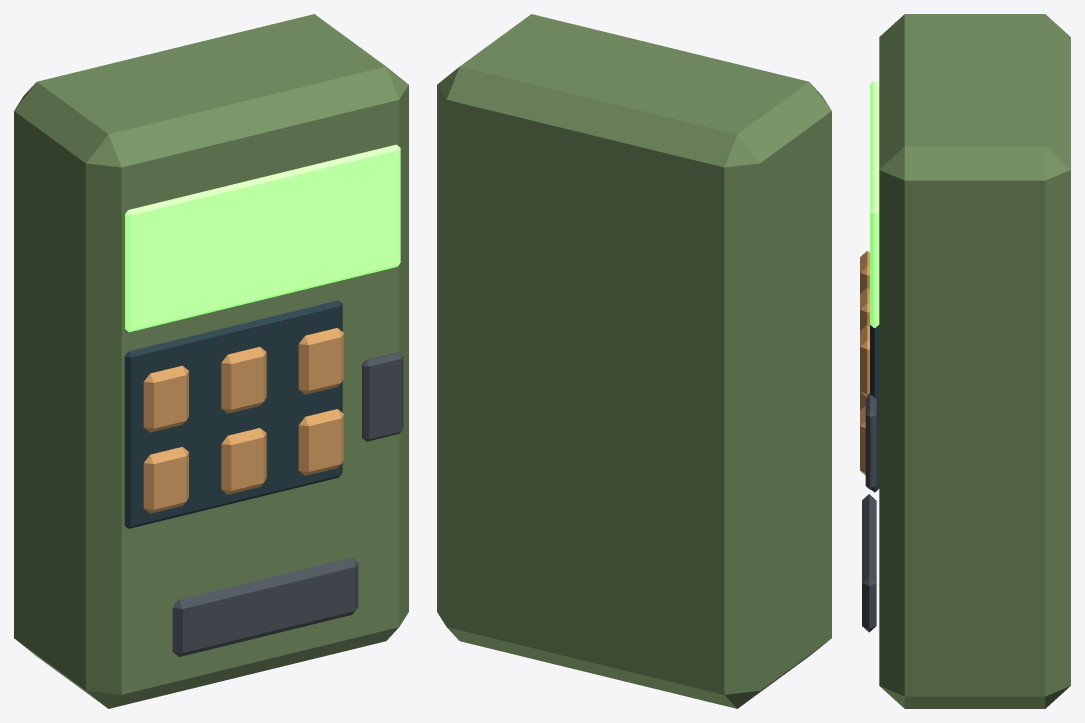
The model's file is la-vendingmachine.glb.
3 renders of one model, left to right at view 1: azimuth 30°, elevation 25°; view 2: azimuth 150°, elevation 25°; view 3: azimuth 270°, elevation 25°, orthographic. The views are drawn at different scales.
Parts seen in each view (by area): view 1: Vending_Body, AD_SURFACE_VENDING, Vending_Display, Vending_Chute, Vending_Keypad, Vending_Can.003, Vending_Can.005, Vending_Can, Vending_Can.002, Vending_Can.004, Vending_Can.001; view 2: Vending_Body; view 3: Vending_Body, AD_SURFACE_VENDING, Vending_Chute, Vending_Keypad, Vending_Display, Vending_Can.005, Vending_Can.002, Vending_Can.003, Vending_Can.004.
Part boxes in pixels (x1,y1,x2,y2): Vending_Body: (14, 14, 408, 708); AD_SURFACE_VENDING: (125, 144, 400, 332); Vending_Display: (124, 300, 342, 528); Vending_Chute: (172, 557, 358, 656); Vending_Keypad: (362, 352, 403, 441); Vending_Can.003: (143, 365, 188, 432); Vending_Can.005: (298, 328, 343, 394); Vending_Can: (143, 447, 188, 513); Vending_Can.002: (298, 409, 343, 475); Vending_Can.004: (221, 347, 266, 413); Vending_Can.001: (221, 428, 266, 494); Vending_Body: (437, 14, 831, 708); Vending_Body: (879, 14, 1070, 708); AD_SURFACE_VENDING: (870, 80, 879, 327); Vending_Chute: (862, 494, 876, 632); Vending_Keypad: (865, 395, 876, 489); Vending_Display: (870, 325, 879, 492); Vending_Can.005: (860, 324, 869, 397); Vending_Can.002: (860, 406, 865, 475); Vending_Can.003: (860, 250, 869, 293); Vending_Can.004: (860, 287, 869, 330).
Size of the model in its own units: 2 by 3.4 by 1.15.
